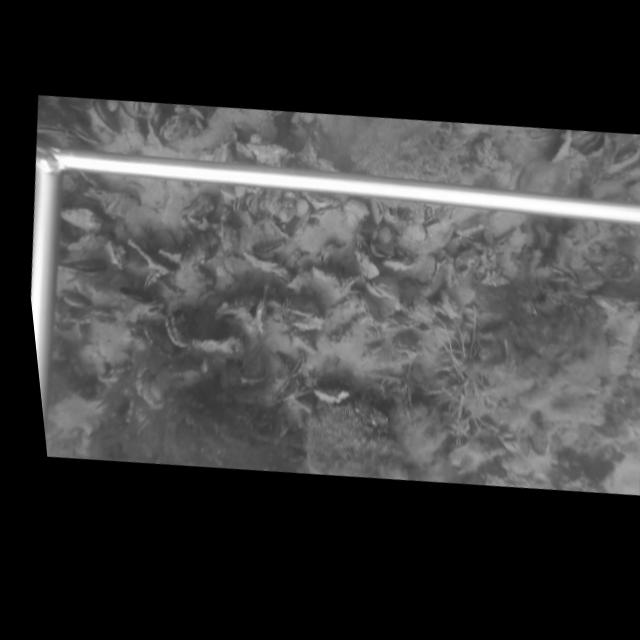Oyster-Closed: (87, 101, 121, 137), (164, 308, 193, 348), (606, 148, 640, 172), (70, 123, 103, 145), (438, 289, 460, 322), (548, 134, 572, 164), (357, 252, 380, 281), (254, 295, 269, 337), (289, 349, 307, 378), (37, 123, 69, 134), (143, 271, 160, 291), (391, 212, 400, 226)
Oyster-Indeterminate: (379, 226, 393, 245)
Oyster-Open: (580, 135, 613, 160), (368, 199, 386, 224), (423, 217, 441, 232), (232, 198, 241, 214)
